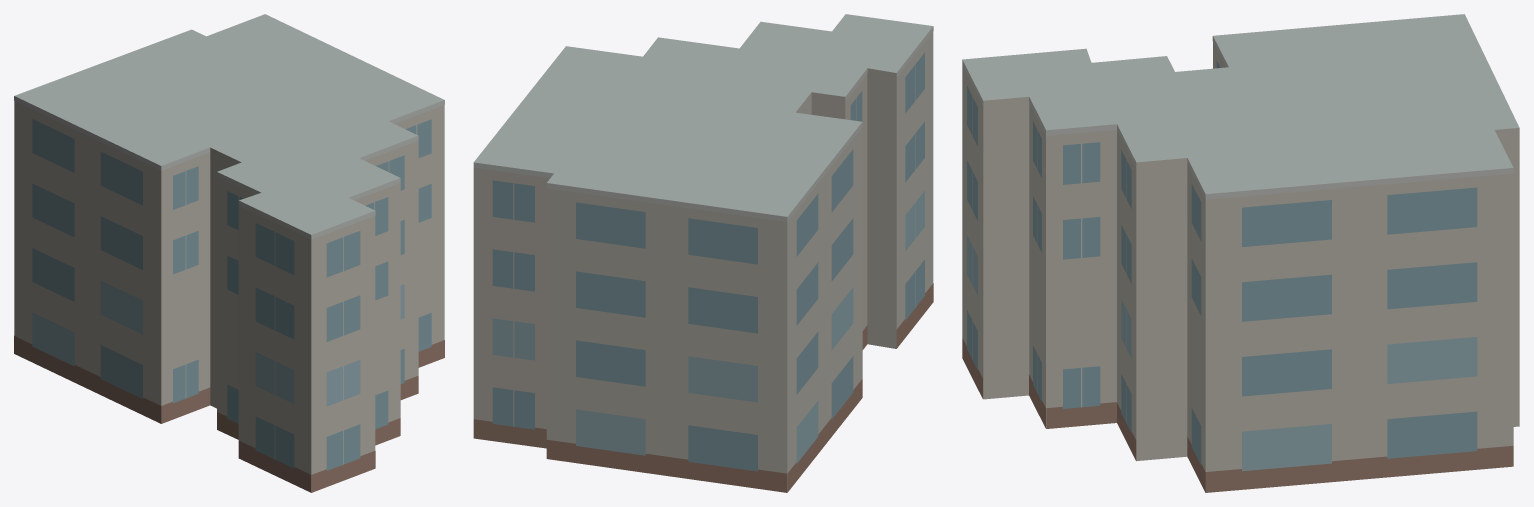
Rendered from survey-upis-32903052.glb.
The picture shows the model from 3 angles, left to right: view 1: azimuth 30°, elevation 25°; view 2: azimuth 150°, elevation 25°; view 3: azimuth 270°, elevation 25°; orthographic projection. The views are drawn at different scales.
Parts seen in each view (by area): view 1: survey-upis-32903052.tmp; view 2: survey-upis-32903052.tmp; view 3: survey-upis-32903052.tmp.
Part boxes in pixels (bbox=[...]): survey-upis-32903052.tmp: bbox=[14, 14, 444, 492]; survey-upis-32903052.tmp: bbox=[473, 14, 933, 492]; survey-upis-32903052.tmp: bbox=[962, 14, 1519, 492].
Bounding box in the file's own units: 16.74 × 12.94 × 21.89.
